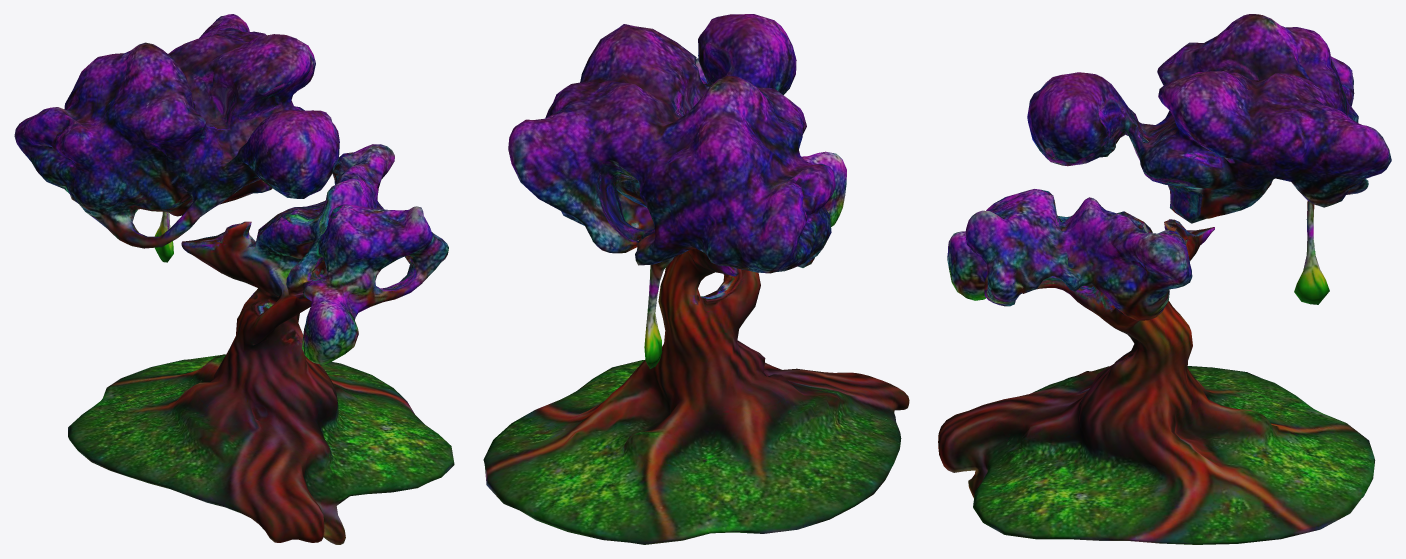
File: 36172132b8a1_magical_tree_styliz.fbx
3 renders of one model, left to right at view 1: azimuth 30°, elevation 25°; view 2: azimuth 150°, elevation 25°; view 3: azimuth 270°, elevation 25°, orthographic. The views are drawn at different scales.
Visible parts, largest first — view 1: mesh; view 2: mesh; view 3: mesh.
Boxes of the visible parts, x1,y1,x2,y2 form: mesh: (14,14,454,544); mesh: (483,14,909,544); mesh: (938,14,1391,544).
Bounding box in the file's own units: 76.27 × 99.37 × 87.63.
